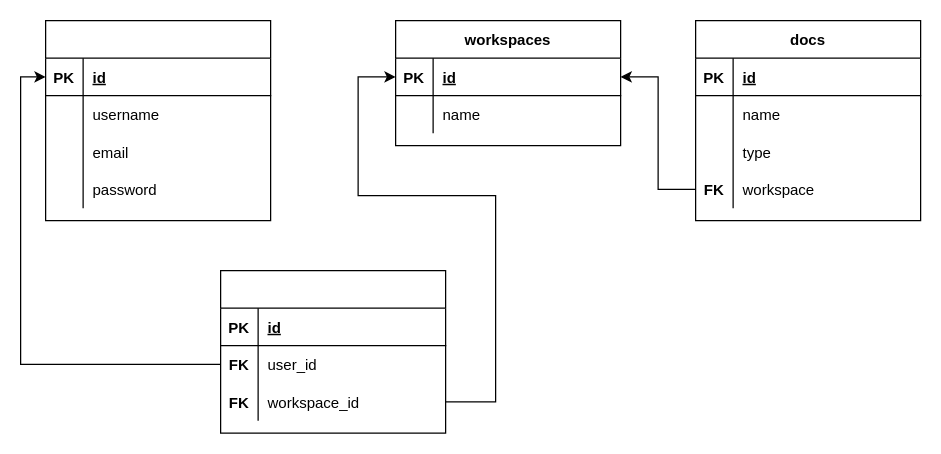
Some shapes in this 941 by 454 pixel diagram are drawn without their labels. Each missing label, with the box of its shape:
user_workspace: (219, 269, 446, 433)
users: (44, 19, 271, 221)
